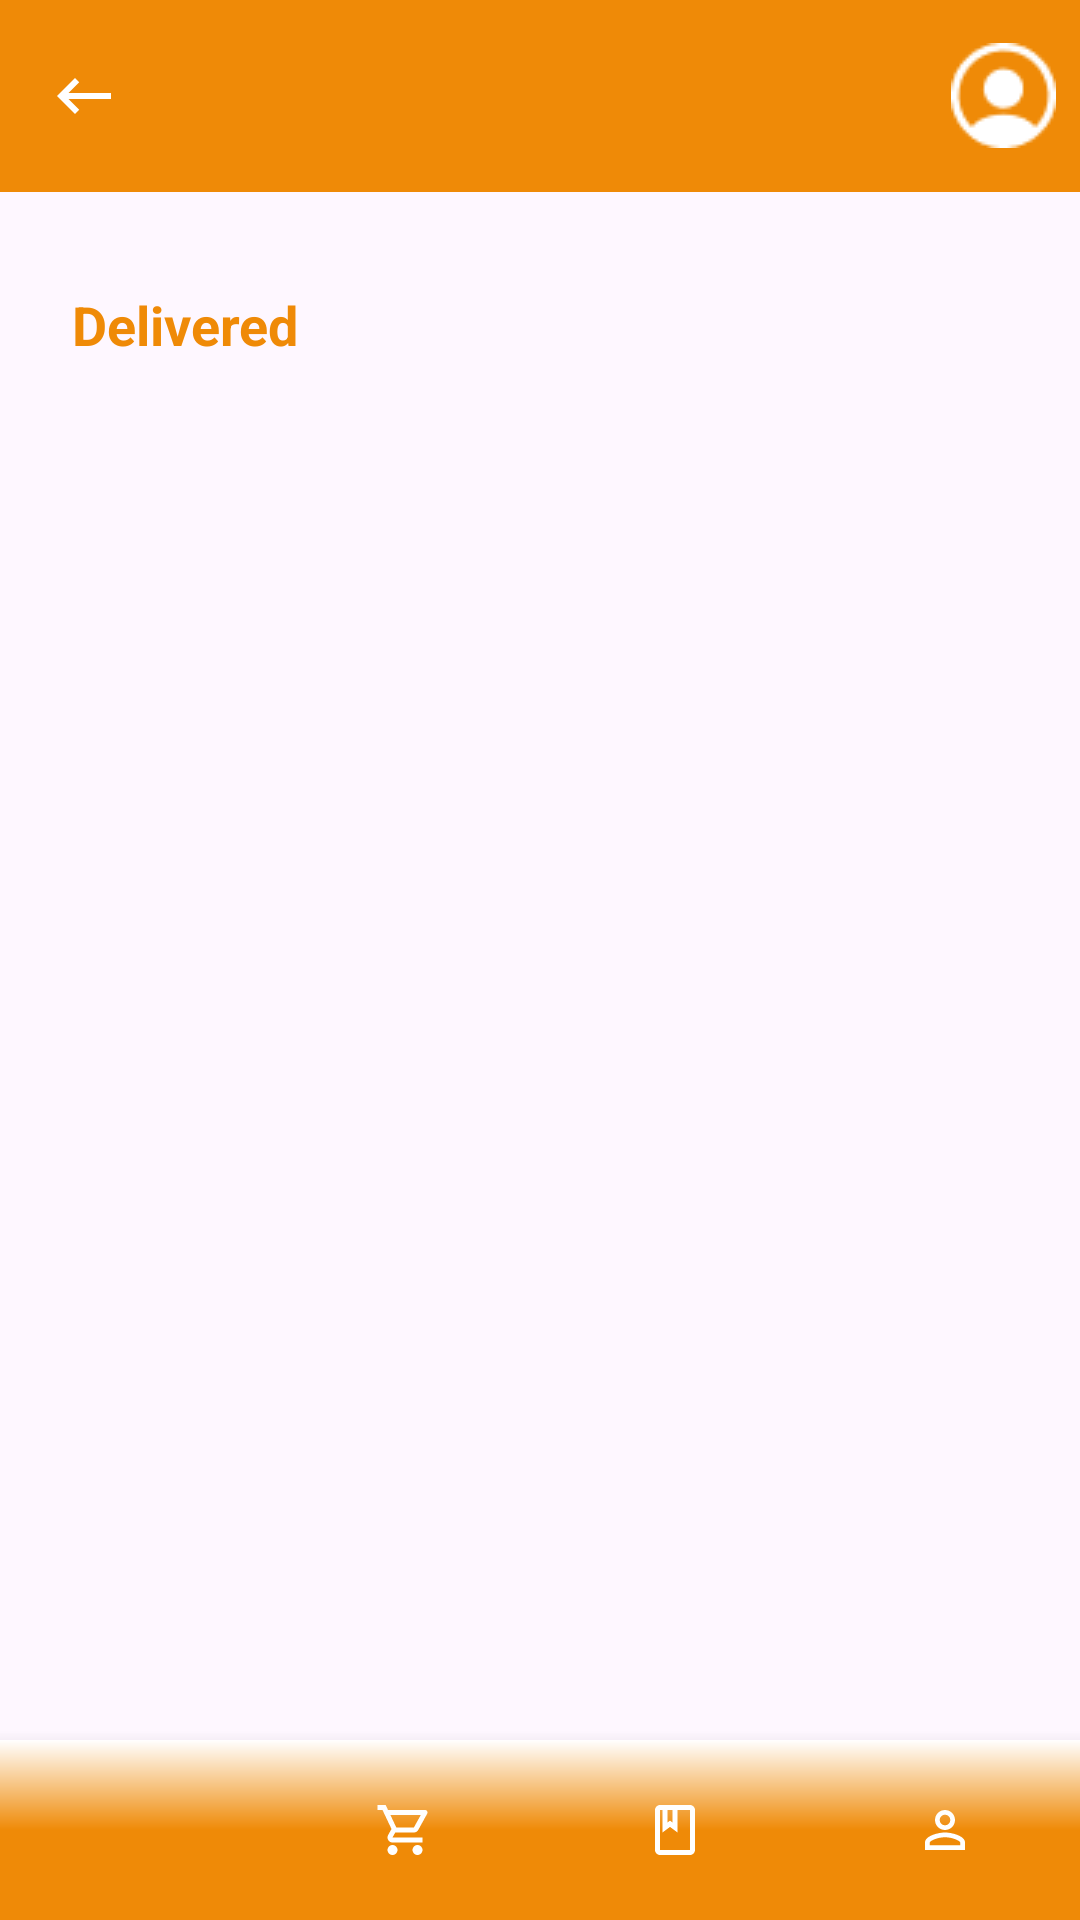

Point at icon controls on the screen. Image size 1080px x 1920px, points as [x,y].
back: [84,96]
profile: [1003,95]
